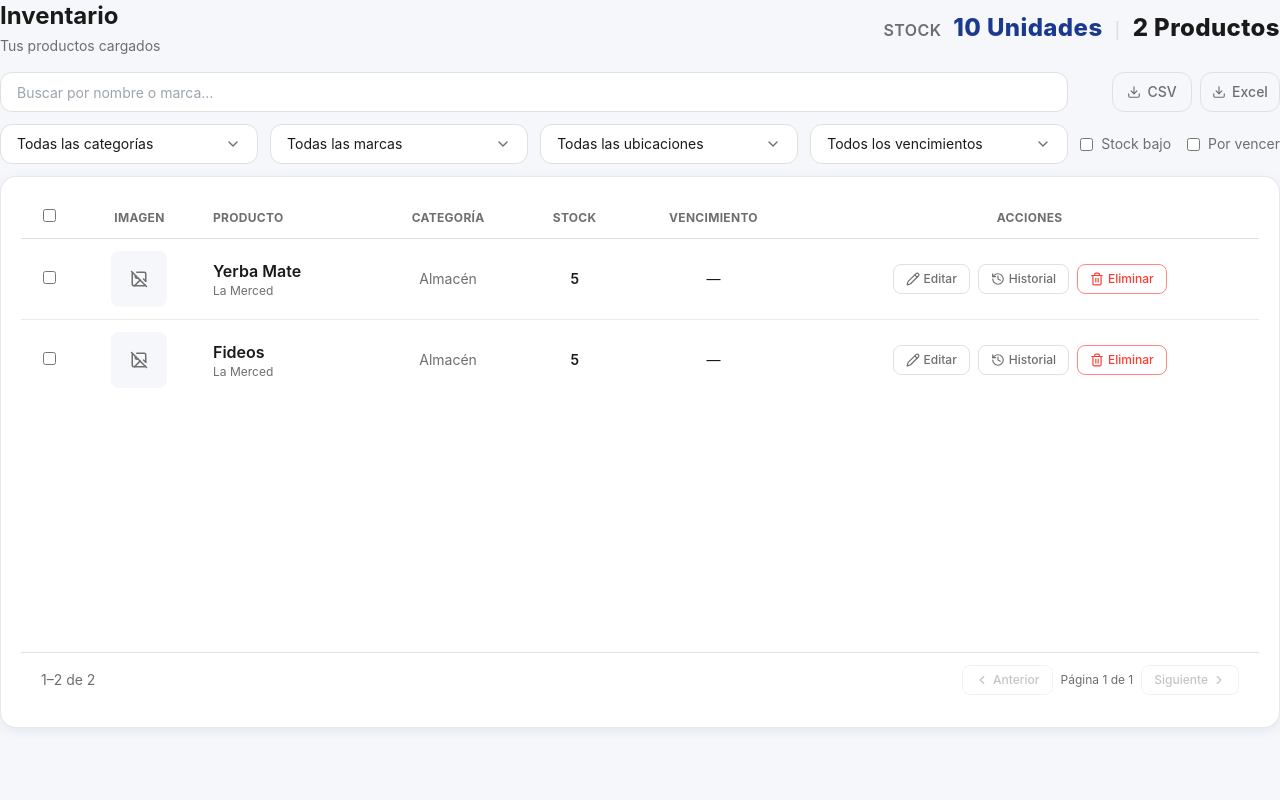
MyProducts › selecciona productos, edita en lote y confirma
Expected: the button "Yerba Mate" is shown, [213,259,301,283]
Click the checkbox named "Seleccionar Yerba Mate" at (50, 278), box [43,271,56,284]
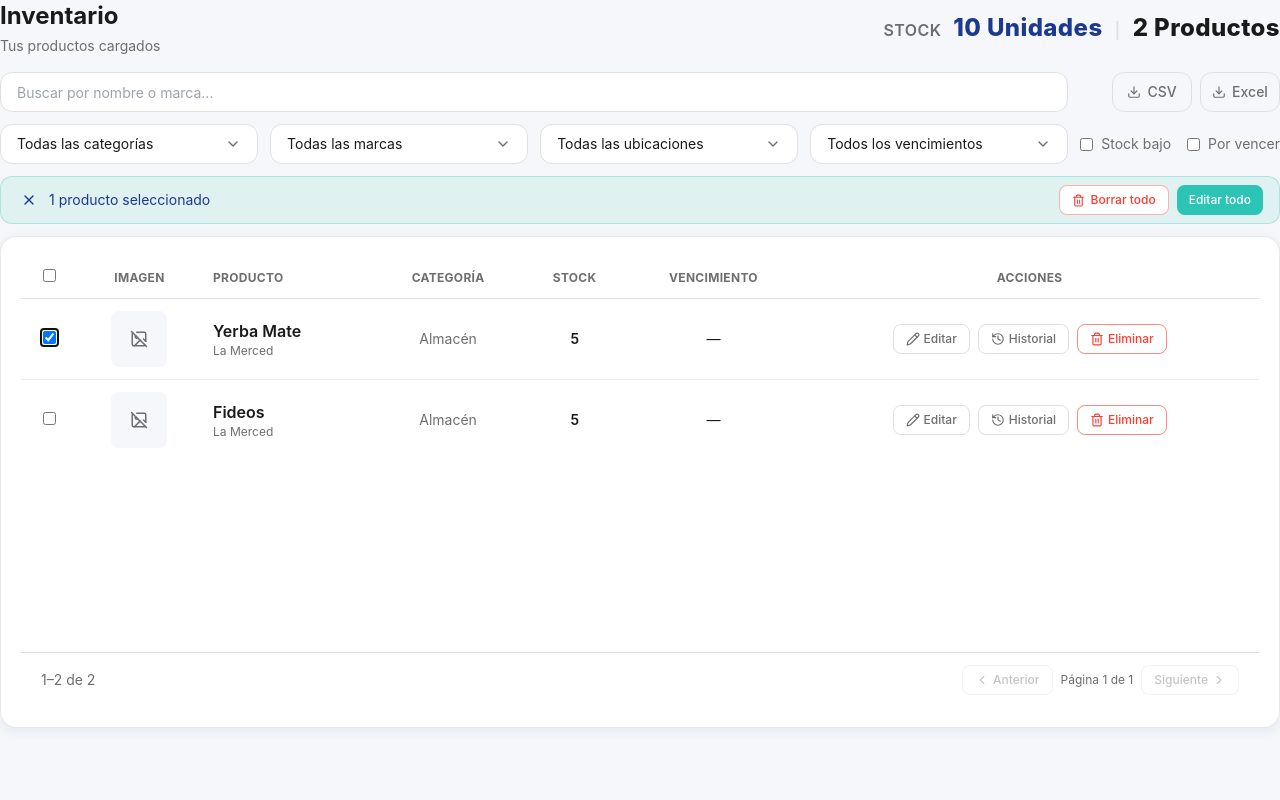
Expected: the text "1 producto seleccionado" is shown, [49,190,210,210]
Click the 3rd checkbox at (50, 276), box [43,269,56,282]
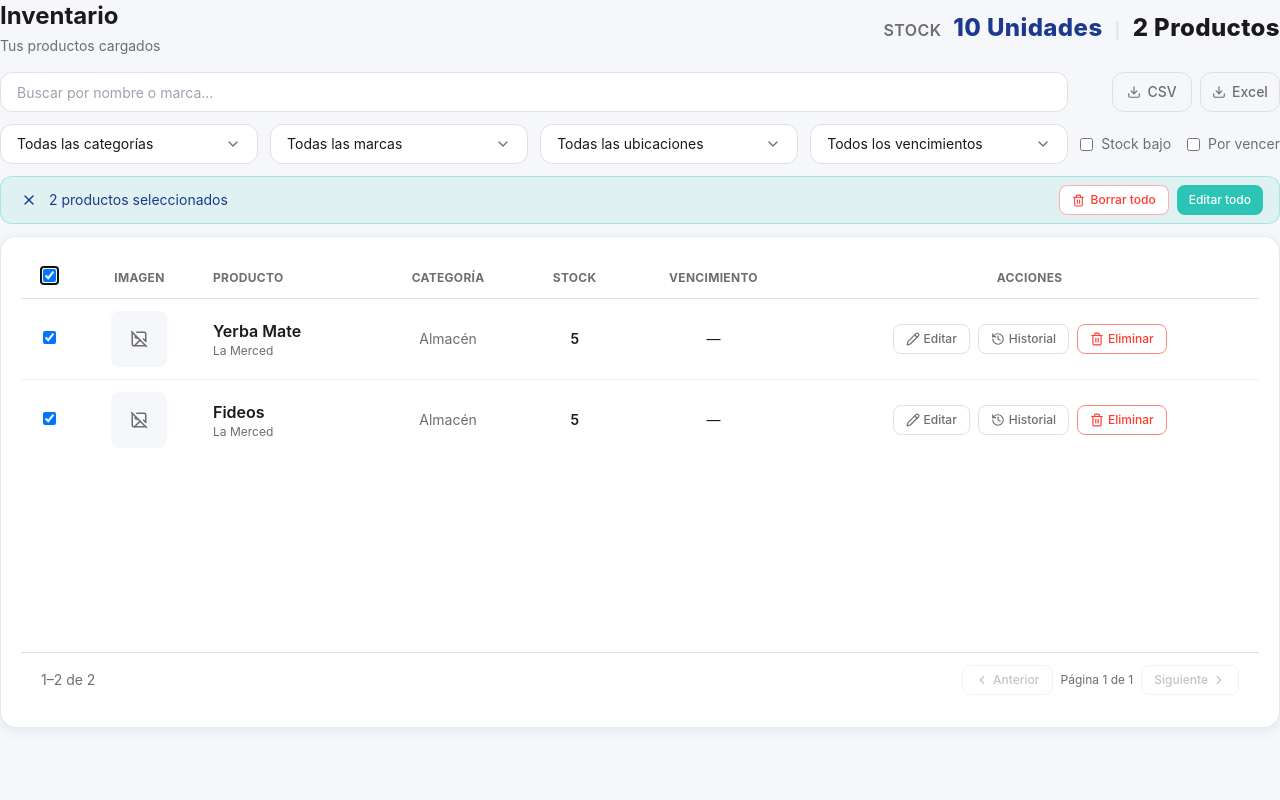
Expected: the text "2 productos seleccionados" is shown, [49,190,228,210]
Click the button "Editar todo" at (1220, 200), box [1177,185,1263,215]
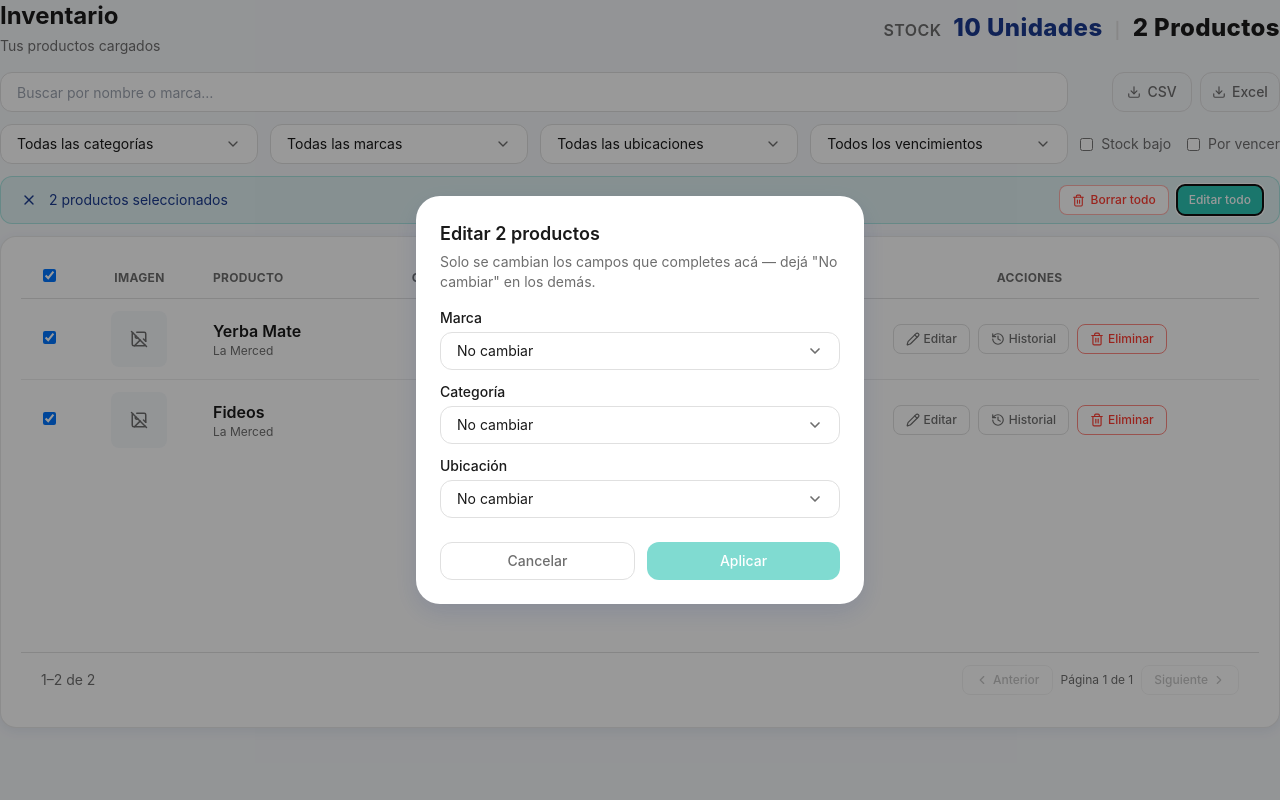
Select "Limpieza" in the 2nd dropdown at (640, 425), box [440,406,840,444]
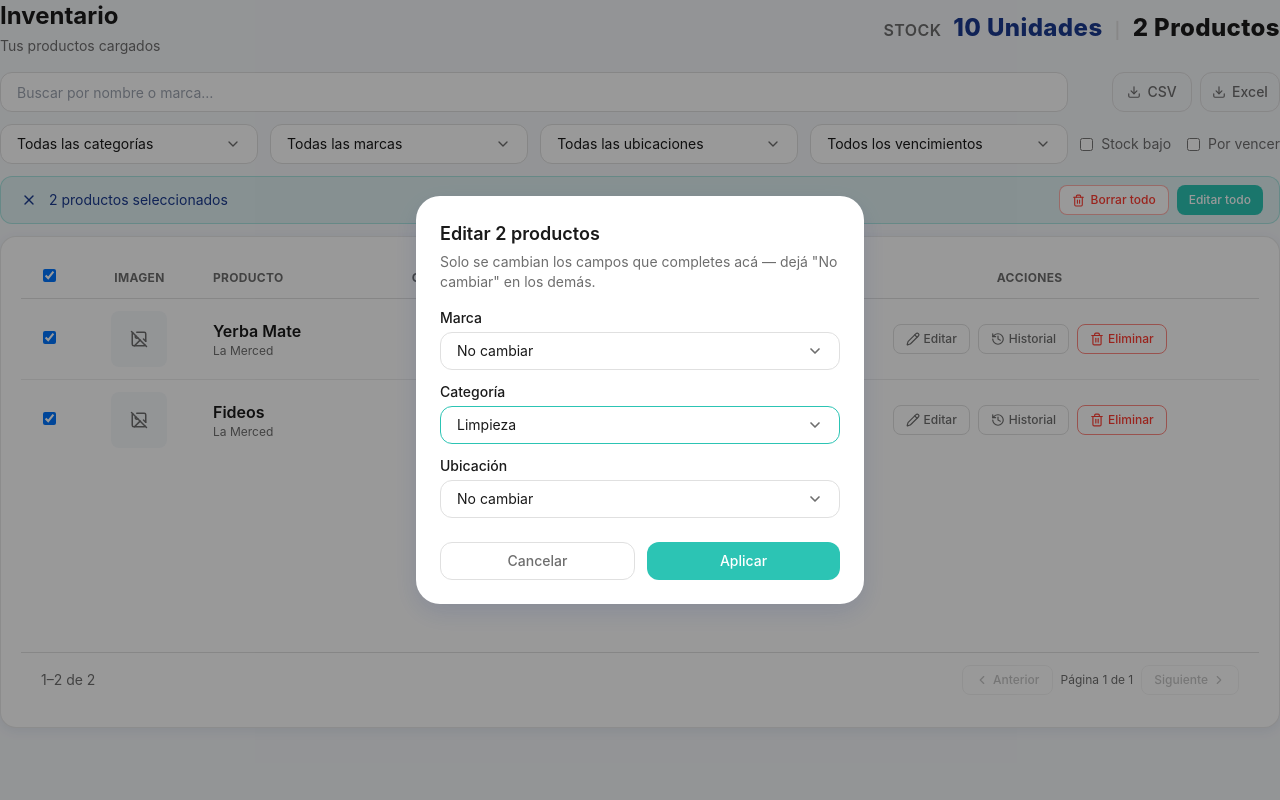
Click the button "Aplicar" at (744, 561), box [647,542,840,580]
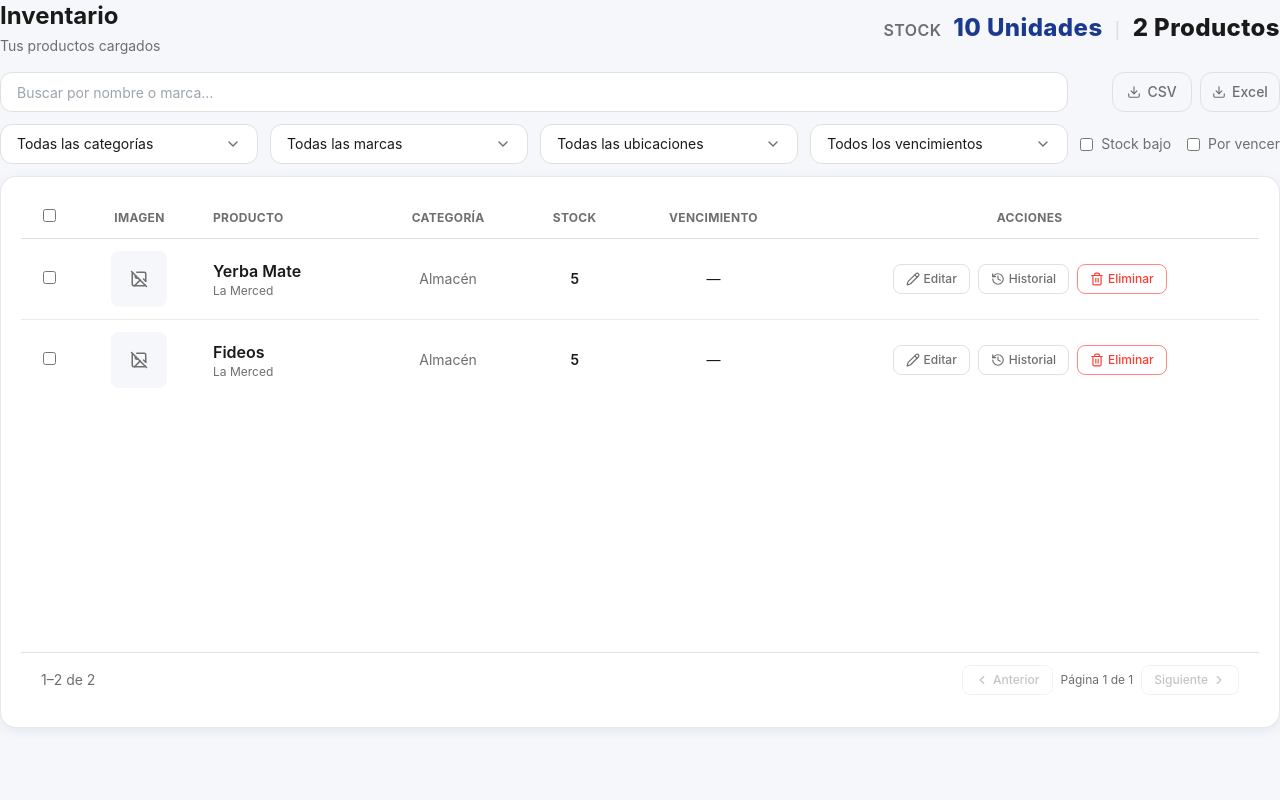
Expected: the heading "Editar 2 productos" is gone
